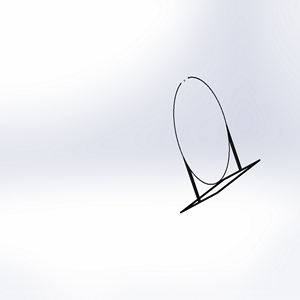circle: (169, 74, 261, 212)
